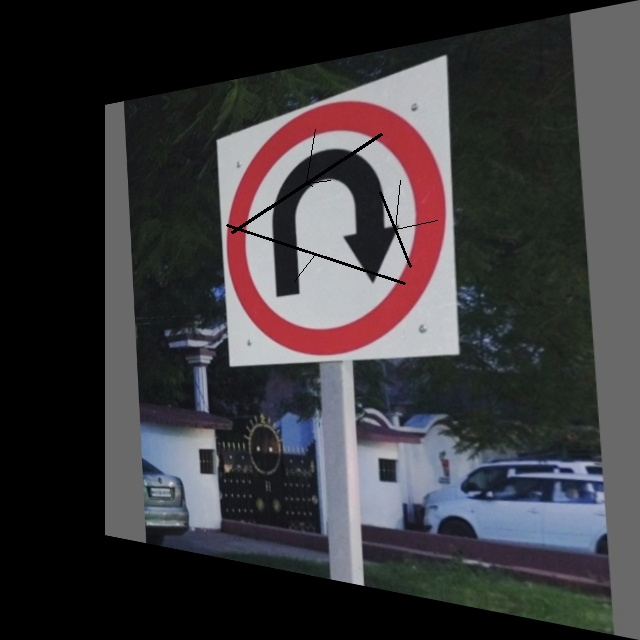U_Turn_Ahead: (212, 80, 458, 362)
